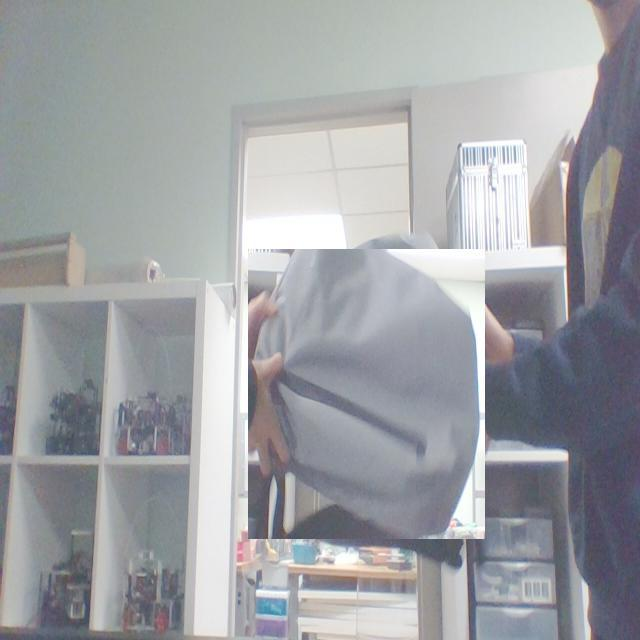Backpacks: (248, 249, 486, 540)
